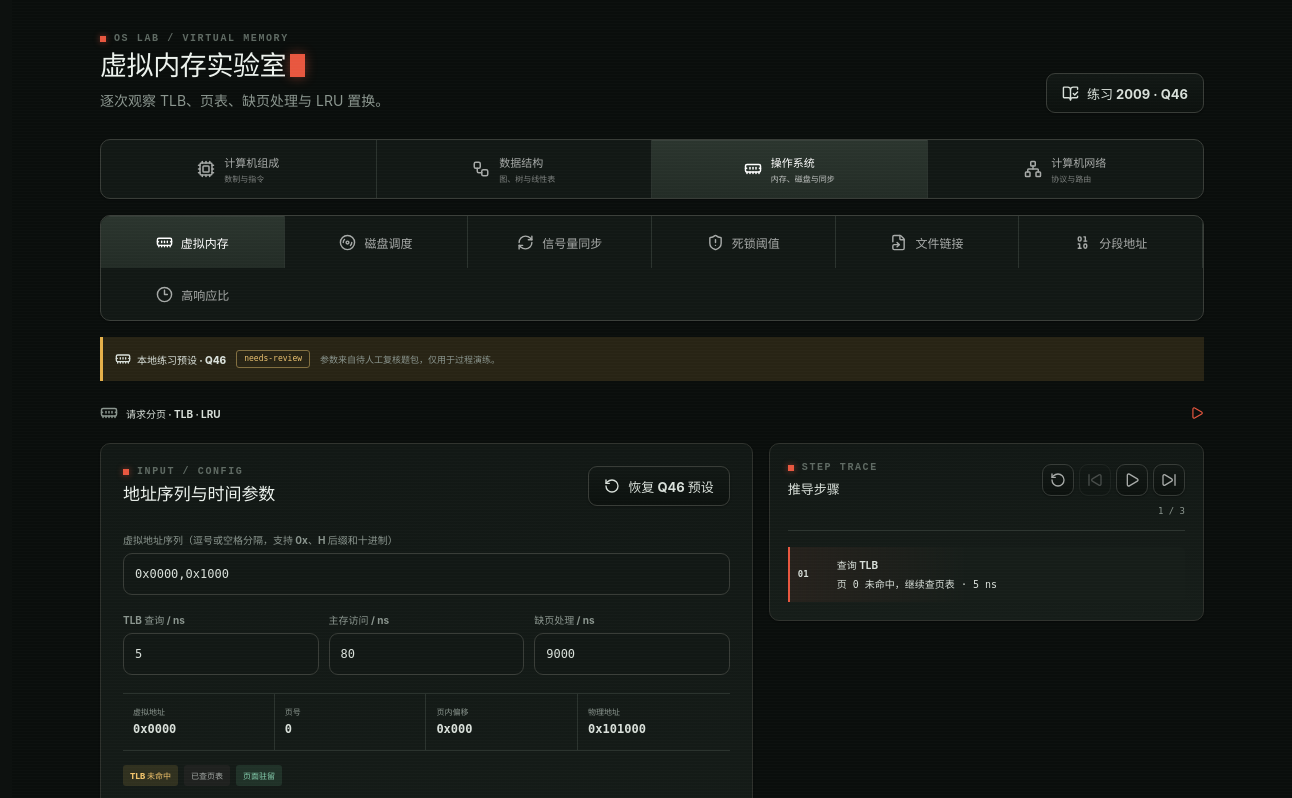
VirtualMemoryLabPage URL state › restores custom addresses and timing parameters and writes edits back without the preset
The width and height of the screenshot is (1292, 798).
Check: the field labelled "虚拟地址序列" holds "0x0000,0x1000", box [123,554,730,596]
Check: the field named "TLB 查询时间，纳秒" holds "5", box [123,634,319,676]
Step 1. Replace the text in the field named "主存访问时间，纳秒" with "90" → (426, 654), box [329,634,524,676]
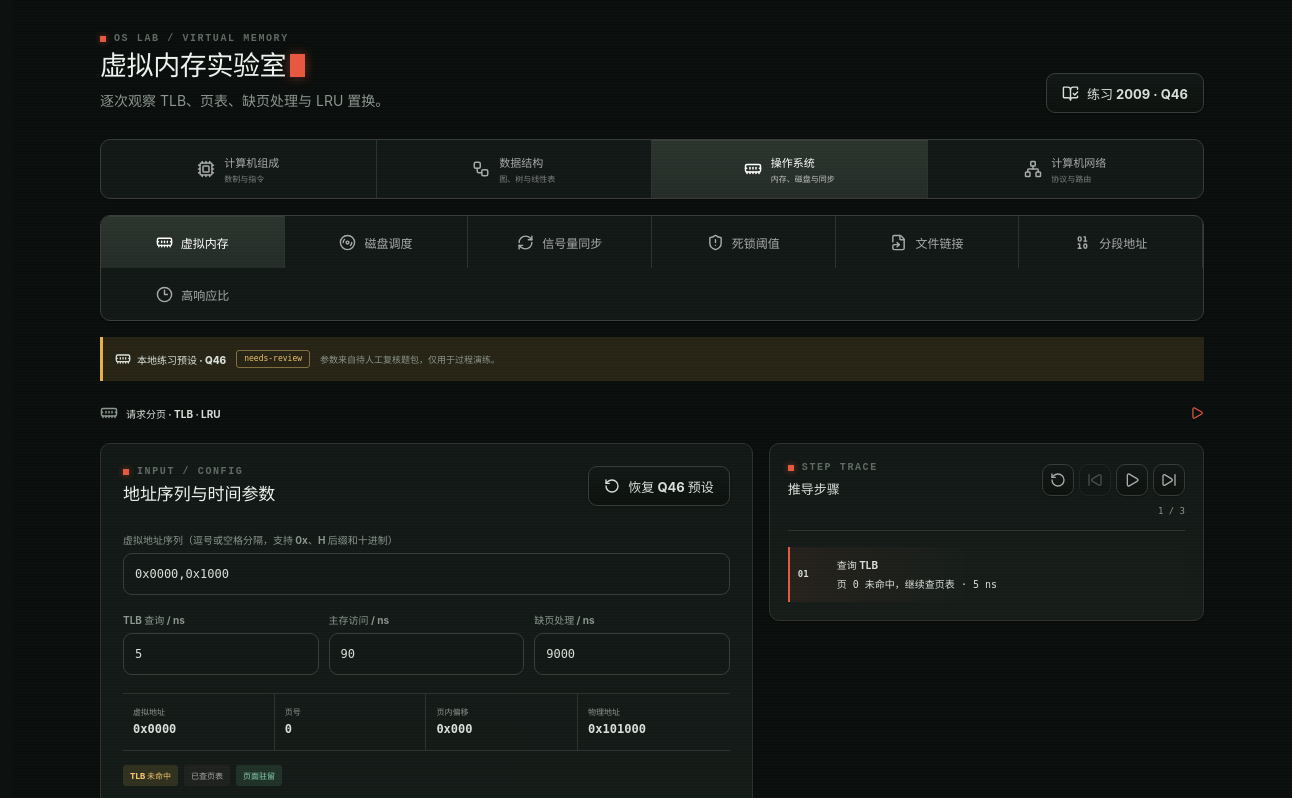
Step 2. Click the button "恢复 Q46 预设" → click(659, 486), box [588,466,730,506]
(page scrolled)
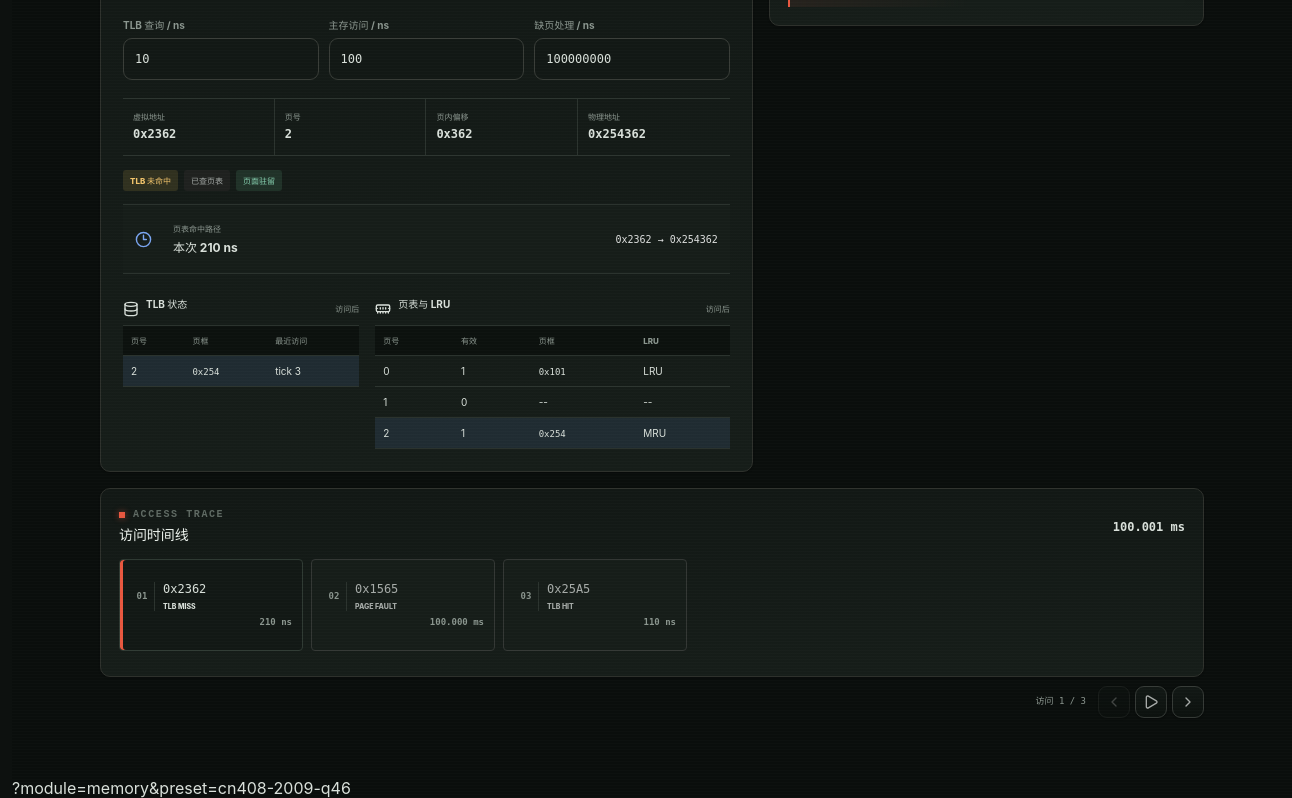
Check: the text named "current search" reads "?module=memory&preset=cn408-2009-q46", box [12,778,351,797]
